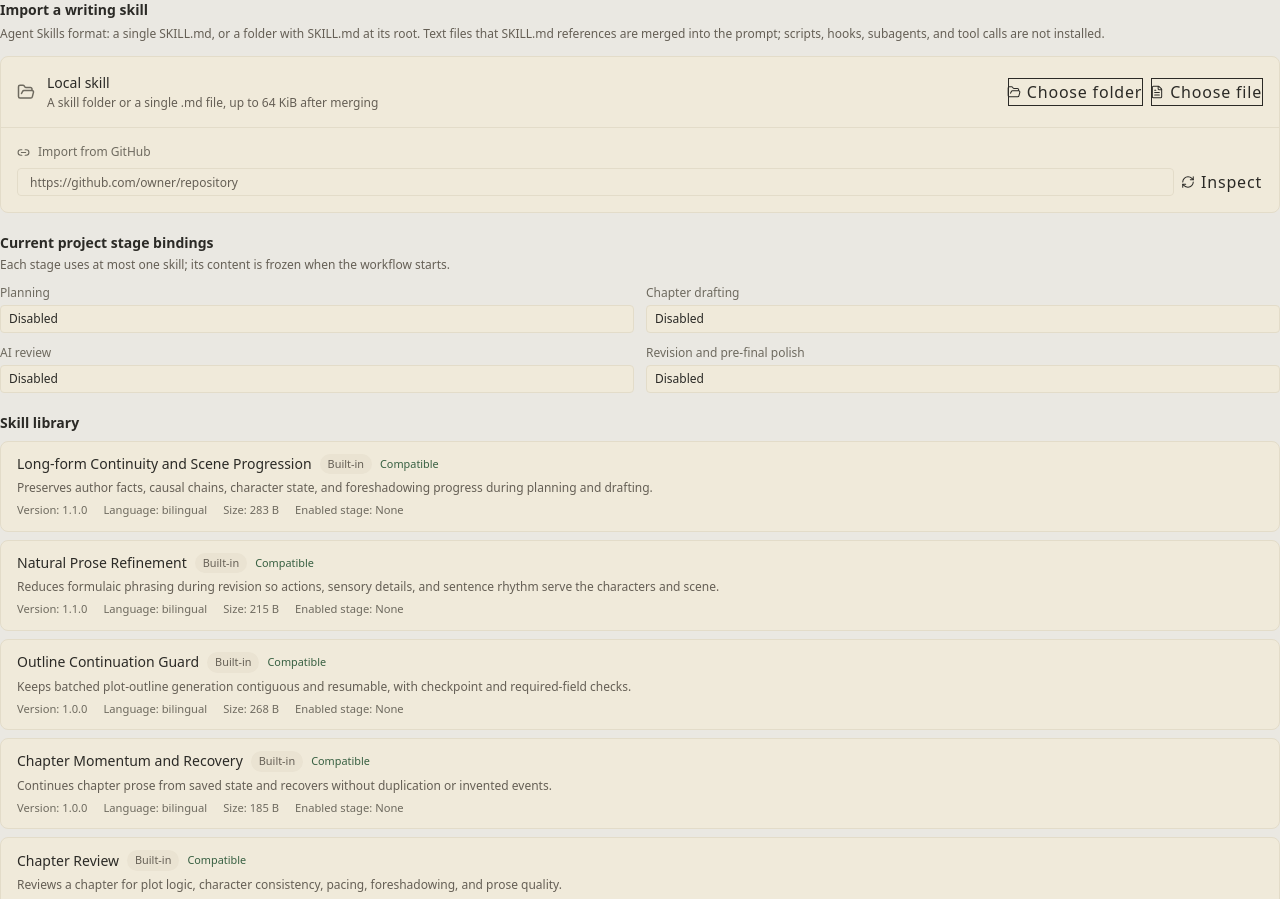
Test case: writing skill settings › drops the candidate the main process discarded when installation fails
Click the button "Choose folder". click: click(1076, 92)
box: x1=1008 y1=78 x2=1143 y2=106
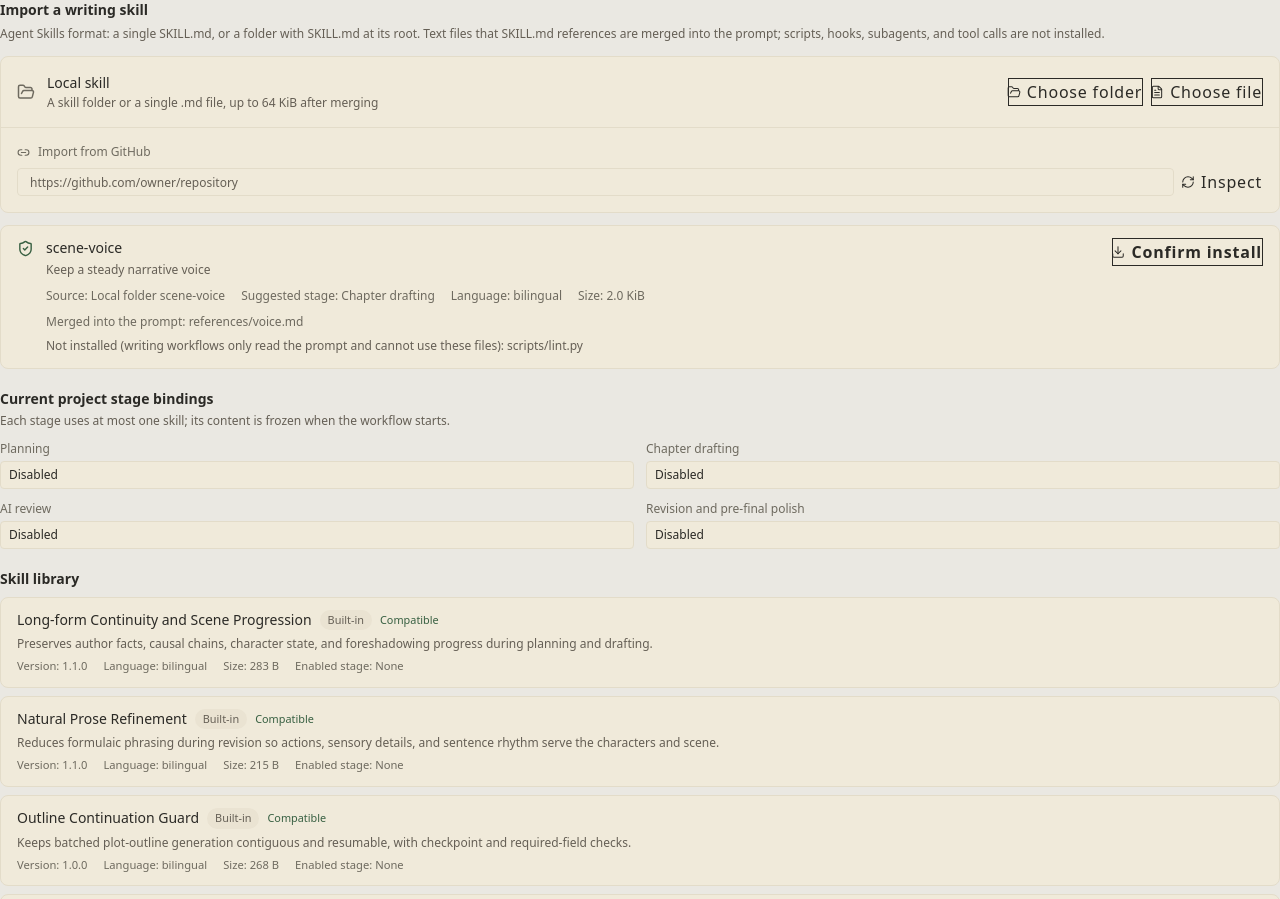
Click the button "Confirm install". click: click(1188, 252)
box: x1=1112 y1=238 x2=1263 y2=266
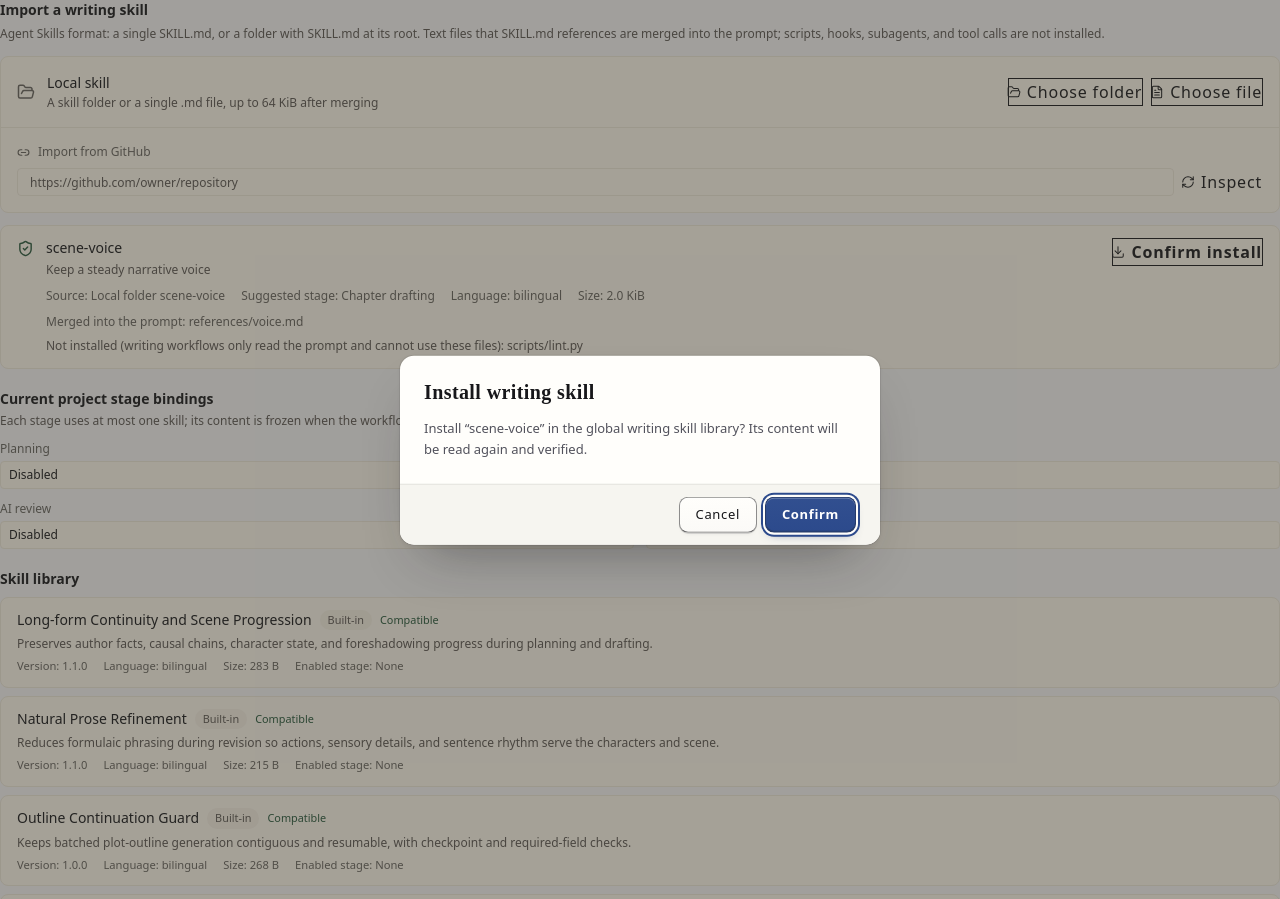
Click the button "Confirm". click: click(810, 514)
box: x1=765 y1=496 x2=856 y2=532
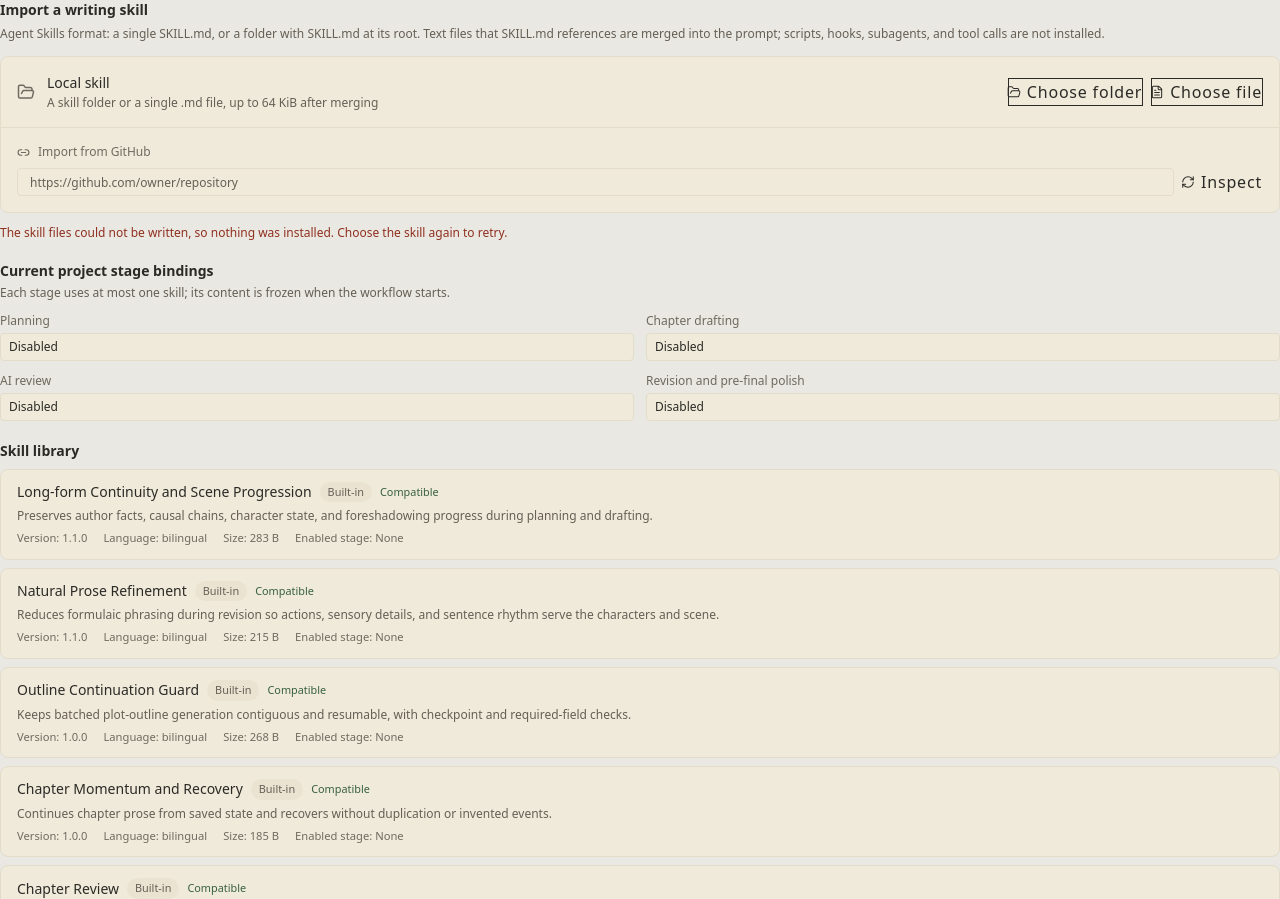
expect the message shows "Choose the skill again to retry": met, box x1=0 y1=224 x2=507 y2=241
